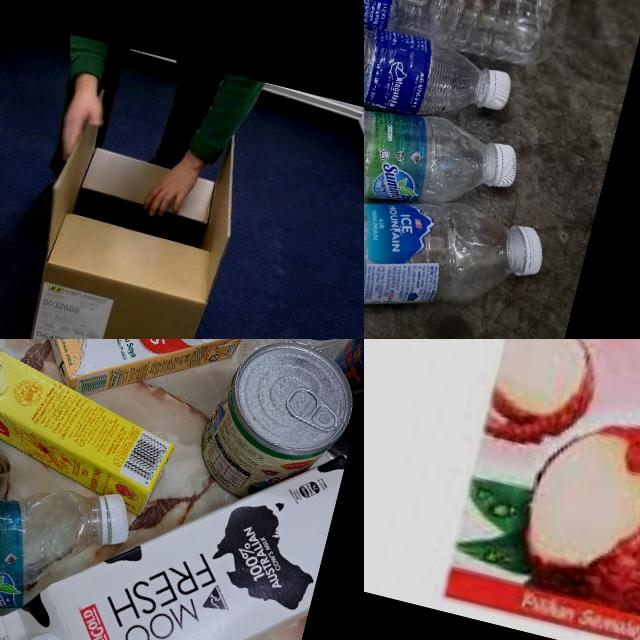aba de lata: (282, 379, 346, 434)
caixinha: (0, 384, 346, 640), (437, 339, 640, 640), (0, 344, 184, 515), (25, 339, 255, 418)
garrafa plástica: (364, 144, 531, 339), (364, 66, 499, 247), (0, 438, 103, 640), (364, 0, 497, 141), (364, 0, 576, 76), (244, 339, 364, 402)
lata: (193, 339, 362, 515)
papelão: (11, 82, 257, 339)
tampa plástica: (86, 484, 142, 550), (90, 488, 136, 558), (503, 223, 550, 281), (486, 142, 522, 192), (3, 617, 79, 640), (484, 68, 514, 112)
